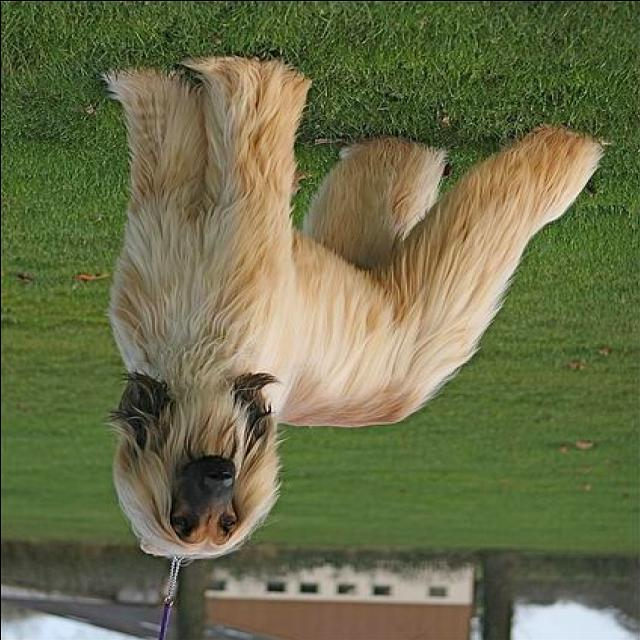afghan_hound: (102, 54, 600, 560)
